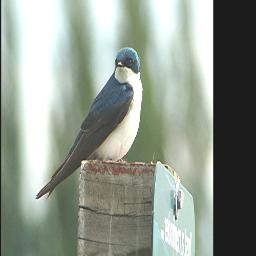Swallow: (35, 46, 143, 202)
